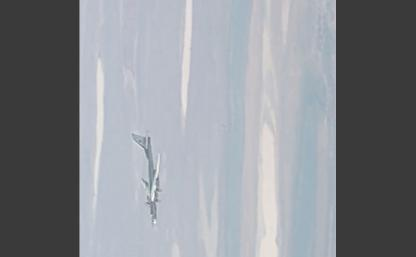Su57: (132, 128, 162, 226)
